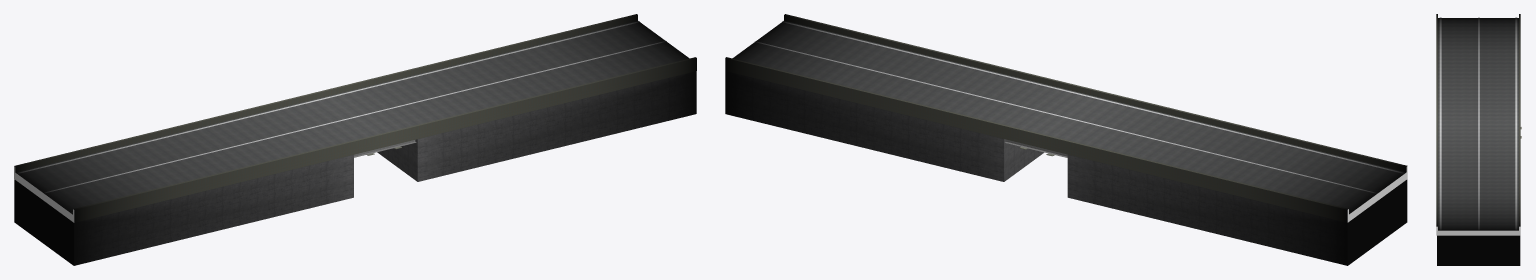
Rendered from RIKKYO01.glb.
The picture shows the model from 3 angles, left to right: view 1: azimuth 30°, elevation 25°; view 2: azimuth 150°, elevation 25°; view 3: azimuth 270°, elevation 25°; orthographic projection. The views are drawn at different scales.
Visible parts, largest first — view 1: fukakusa_rikkyo; view 2: fukakusa_rikkyo; view 3: fukakusa_rikkyo.
Part boxes in pixels (left/top/right/bottom): fukakusa_rikkyo: left=14, top=14, right=696, bottom=265; fukakusa_rikkyo: left=725, top=14, right=1407, bottom=265; fukakusa_rikkyo: left=1436, top=14, right=1521, bottom=265.
Bounding box in the file's own units: 300 × 25.91 × 50.74.
Materials: 6 (6 with a texture image).
